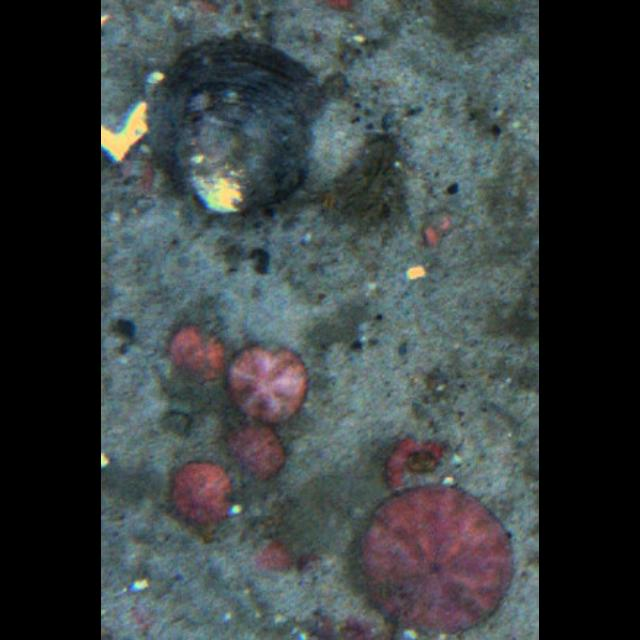Oyster-Closed: (146, 39, 331, 215)
